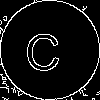C: (25, 25, 61, 71)
